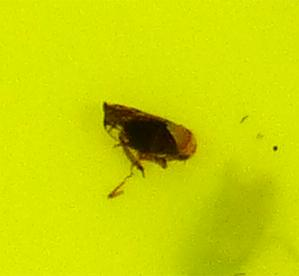Hemiptera: (100, 100, 199, 176)
